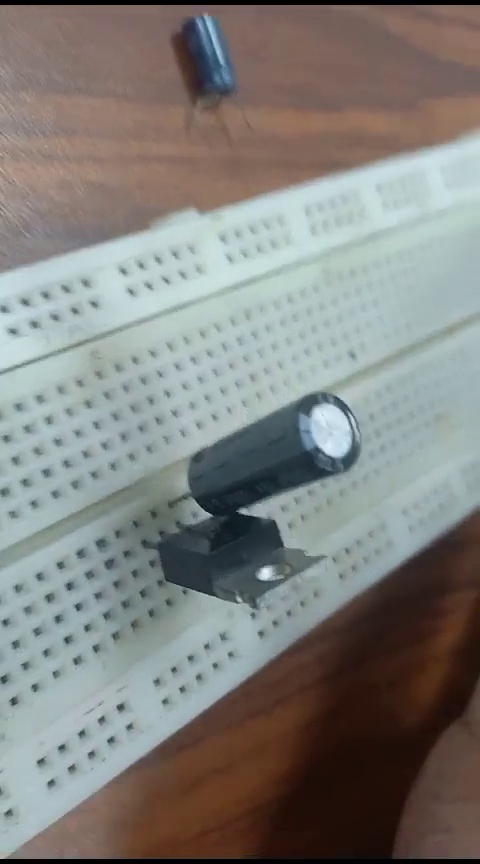capacitor: (160, 393, 367, 503)
voltage regulator: (136, 516, 327, 607)
